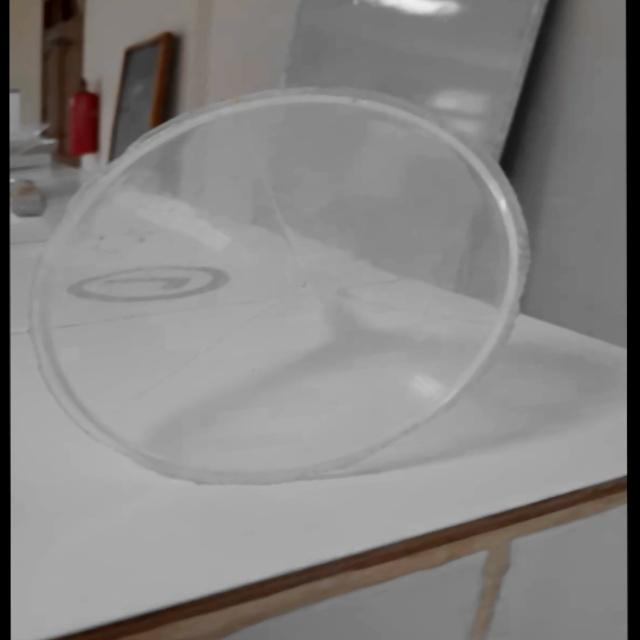Funnel: (27, 64, 542, 500)
